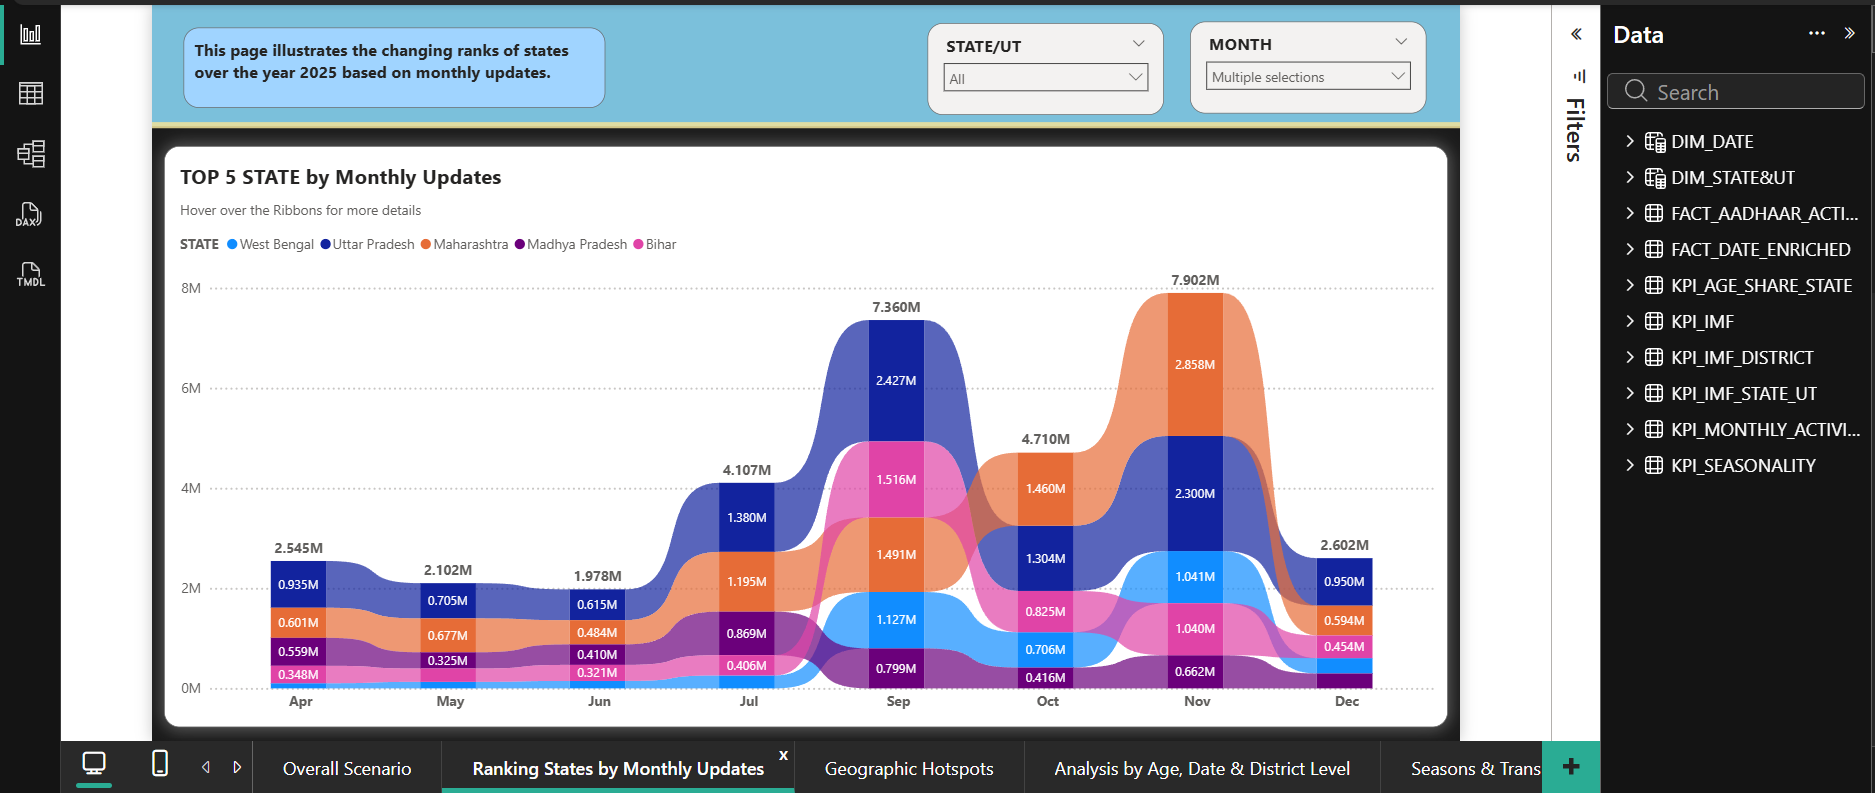

What the dashboard file says about the page in this screenshot:
{"tool":"powerbi","page":{"name":"Ranking States by Monthly Updates","canvas":[1280,720],"ordinal":1},"visuals":[{"type":"shape","box":[0,0,1280,118.6],"z":0},{"type":"shape","box":[0,97.1,1280,41.4],"z":1000},{"type":"slicer","fields":{"Values":["DIM_STATE&UT.STATE/UT"]},"box":[758.6,17.1,231.4,90],"z":2000},{"type":"slicer","fields":{"Values":["KPI_MONTHLY_ACTIVITY.MONTH"]},"box":[1015.7,15.7,231.4,90],"z":3000},{"type":"ribbonChart","title":"TOP 5 STATE by Monthly Updates","fields":{"Category":["KPI_MONTHLY_ACTIVITY.MONTH"],"Y":["Sum(KPI_MONTHLY_ACTIVITY.MONTHLY_UPDATES)"],"Series":["KPI_MONTHLY_ACTIVITY.STATE"]},"box":[11.4,138.6,1255.7,568.6],"z":4000},{"type":"textbox","box":[31.4,21.4,412.9,78.6],"z":5000}]}

Visuals, with their boxes on the page's 1280x720 design canvas (x1, y1, x2, y2). These are canvas units, not pixel positions in the 1875x793 screenshot, which may show the page scaled, cropped or inside an application window:
shape: (x1=0, y1=0, x2=1280, y2=119)
shape: (x1=0, y1=97, x2=1280, y2=138)
slicer - DIM_STATE&UT.STATE/UT: (x1=759, y1=17, x2=990, y2=107)
slicer - KPI_MONTHLY_ACTIVITY.MONTH: (x1=1016, y1=16, x2=1247, y2=106)
"TOP 5 STATE by Monthly Updates" ribbonChart: (x1=11, y1=139, x2=1267, y2=707)
textbox: (x1=31, y1=21, x2=444, y2=100)
